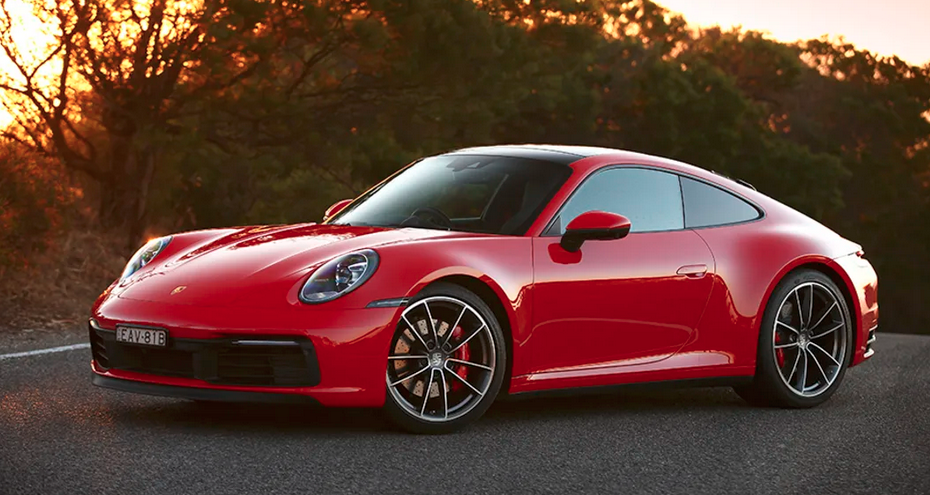car: (79, 124, 889, 432)
